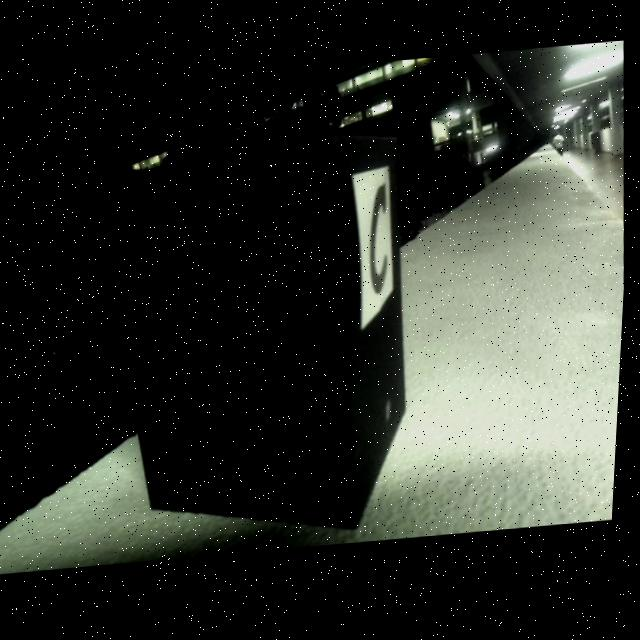C: (372, 187, 391, 298)
